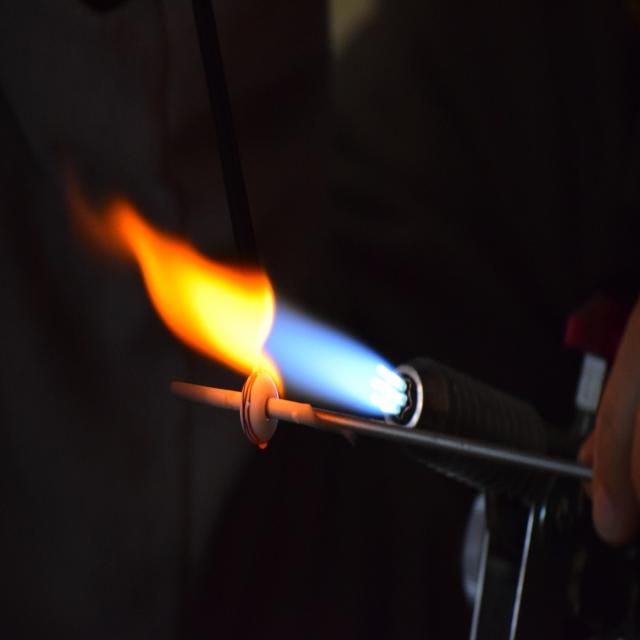fire: (79, 203, 416, 444), (69, 188, 287, 364)
